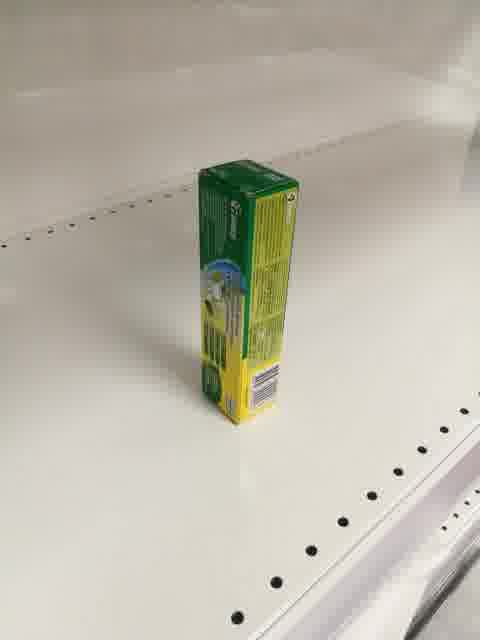toothpaste: (198, 160, 301, 426)
